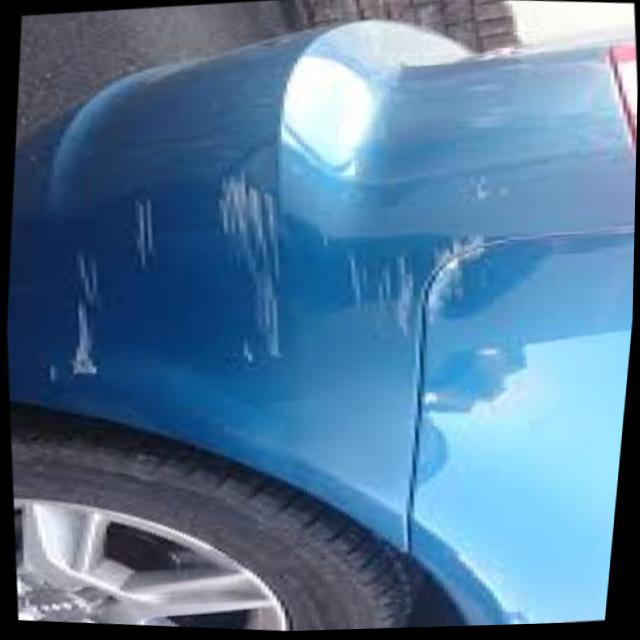Scratch: (50, 165, 516, 426)
